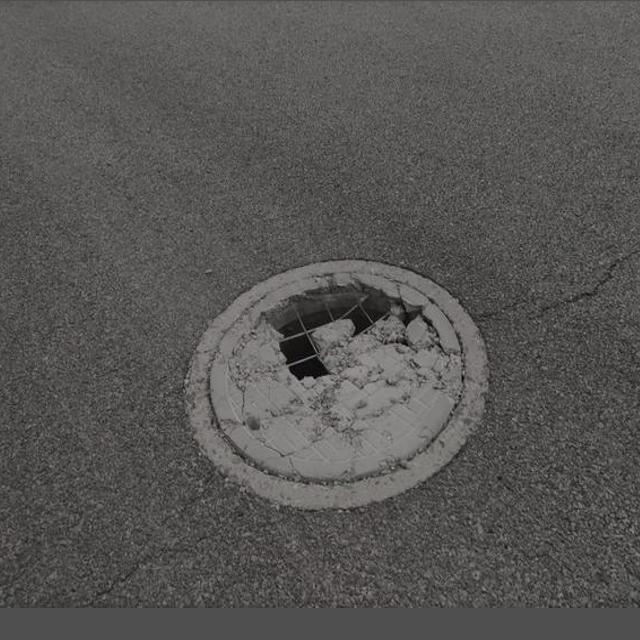broke: (179, 253, 494, 516)
